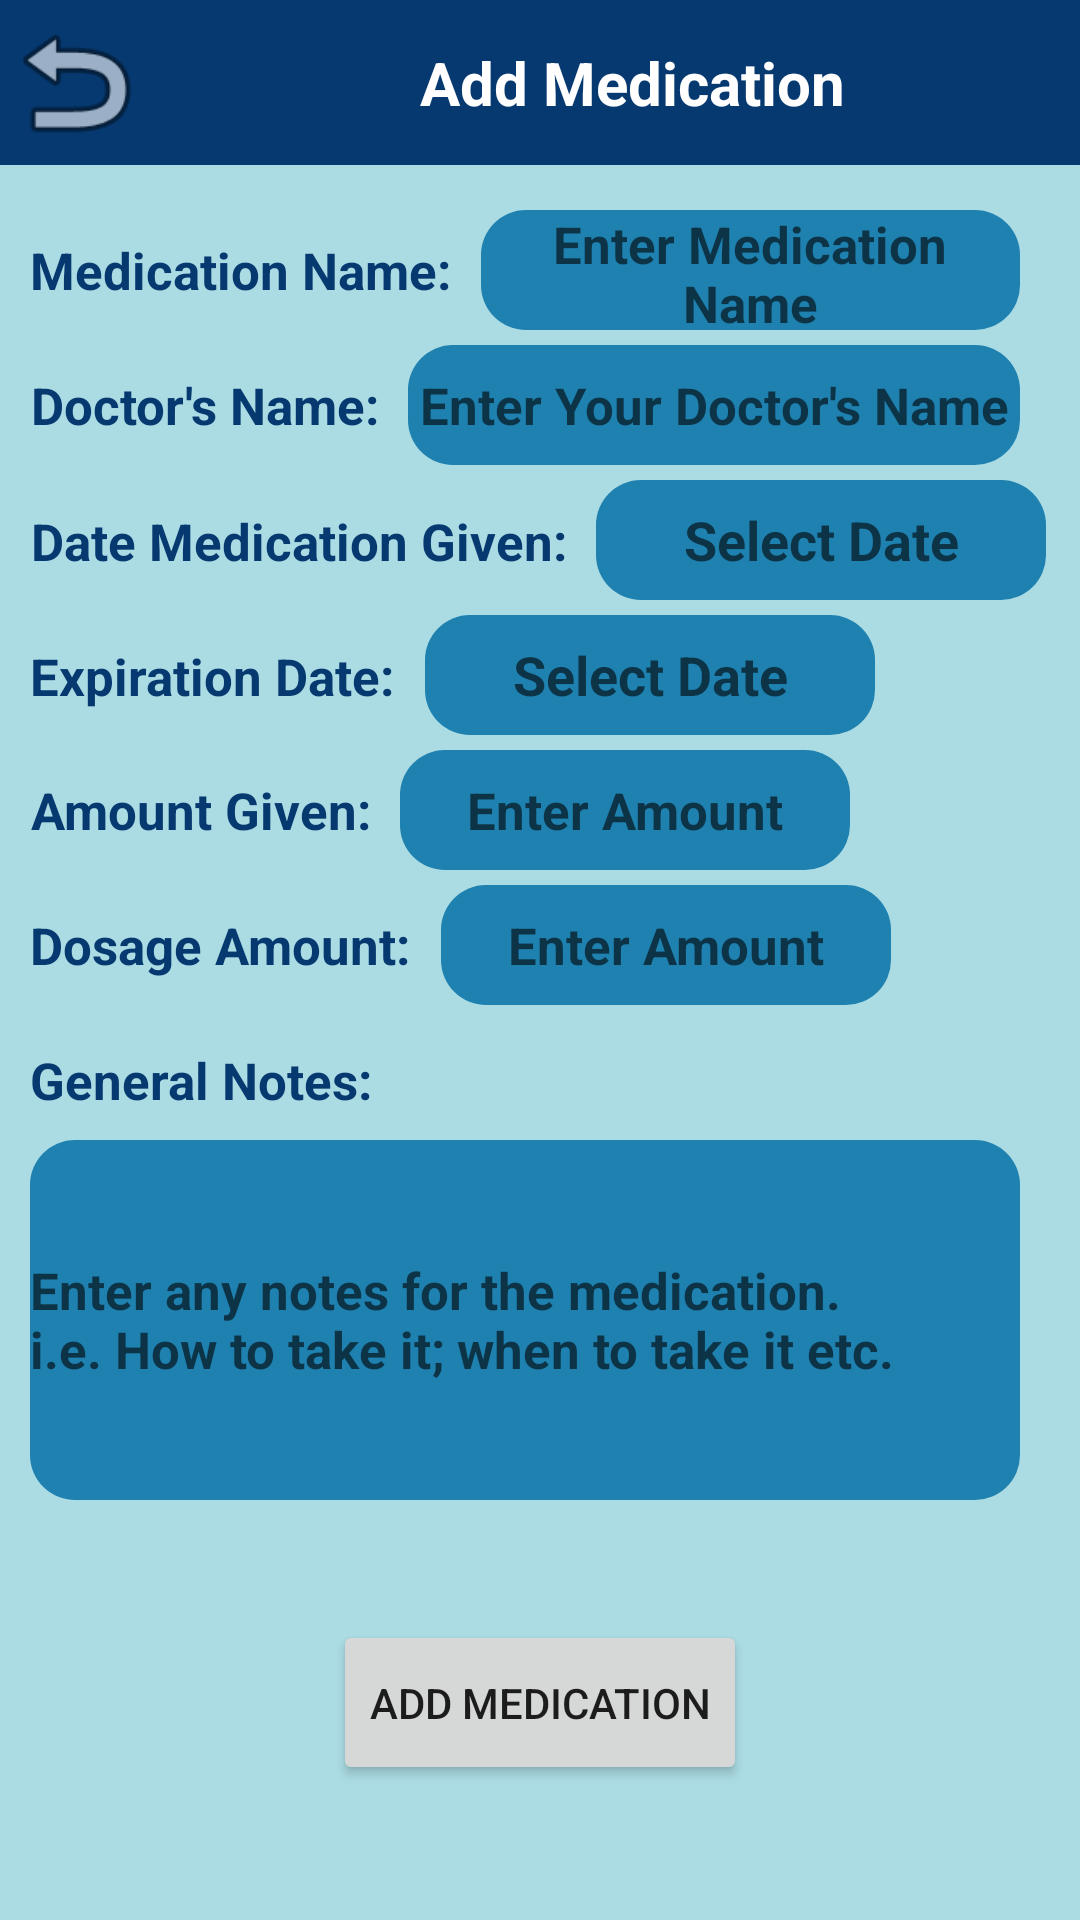

Where to tap for icons on this 1080×1920 app screen, as (x=x, y=y):
revert: (x=76, y=83)
